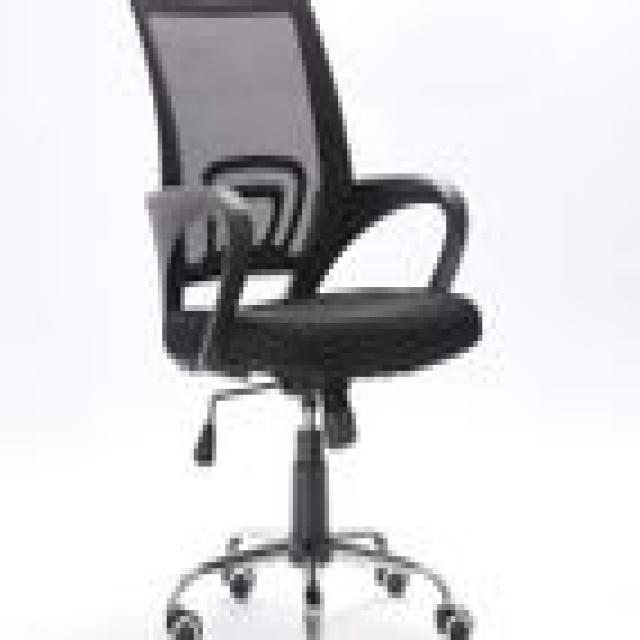others: (104, 6, 514, 634)
